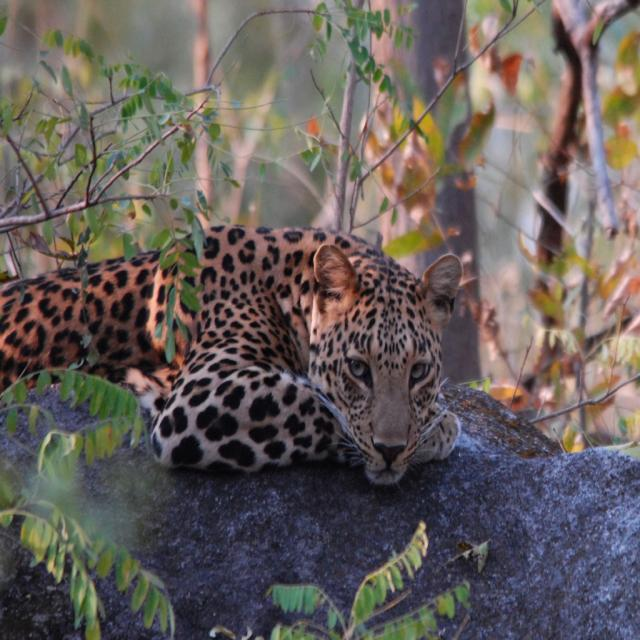Leopard: (11, 226, 461, 478)
